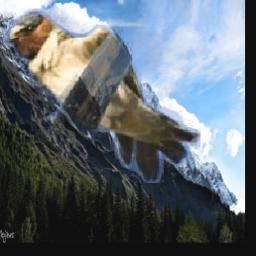Swallow: (4, 9, 201, 183)
